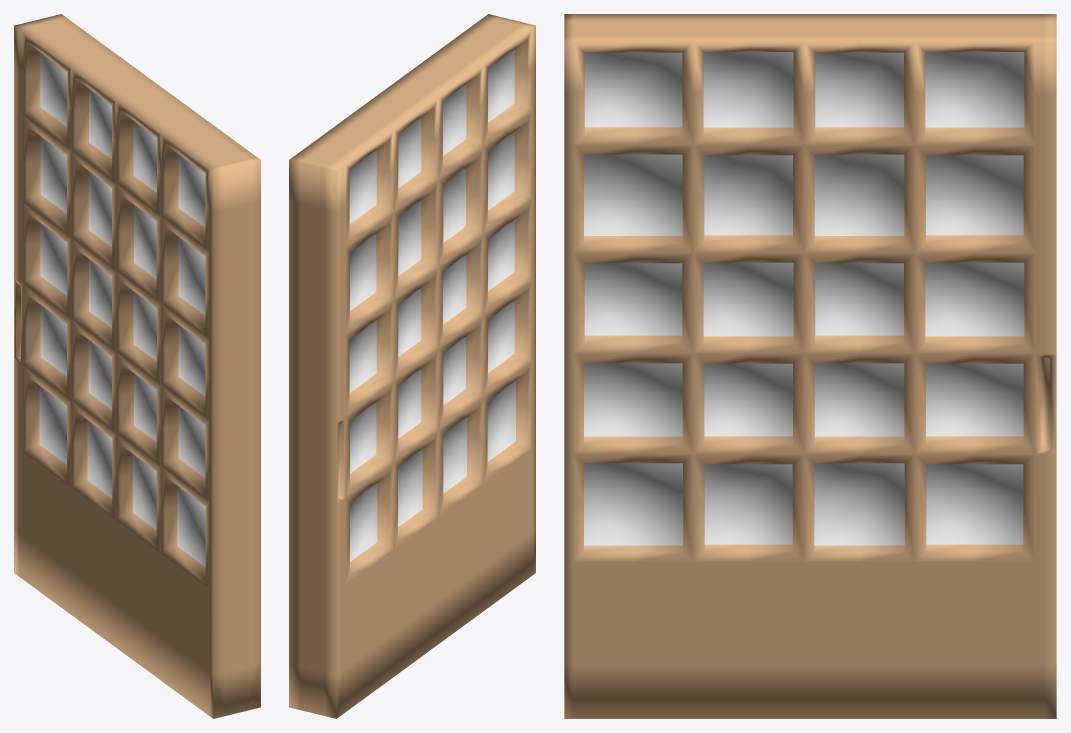
File: shouji.fbx
The picture shows the model from 3 angles, left to right: view 1: azimuth 30°, elevation 25°; view 2: azimuth 150°, elevation 25°; view 3: azimuth 270°, elevation 25°; orthographic projection. The views are drawn at different scales.
Visible parts, largest first — view 1: 立方体; view 2: 立方体; view 3: 立方体.
Boxes of the visible parts, bbox=[...] form: 立方体: bbox=[14, 14, 260, 718]; 立方体: bbox=[289, 14, 535, 718]; 立方体: bbox=[564, 14, 1056, 718].
Bounding box in the file's own units: 200 × 2208 × 1457.
